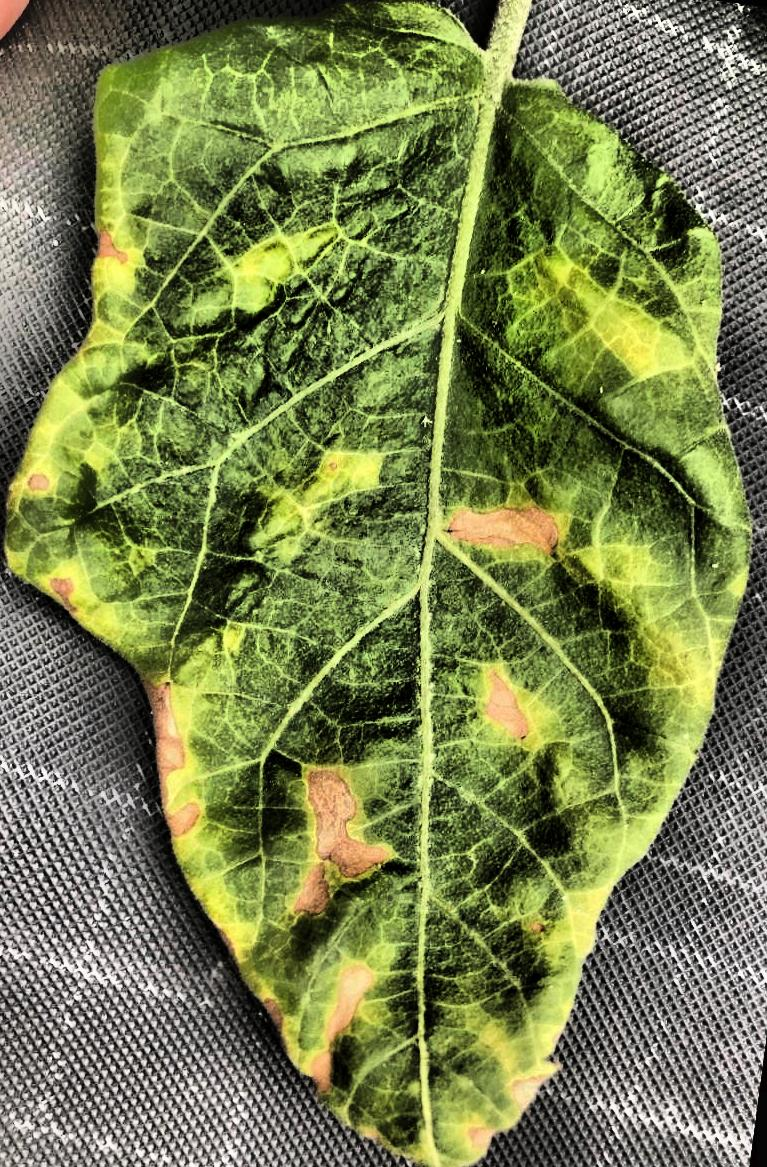Critical Stress: (1, 0, 767, 1167)
